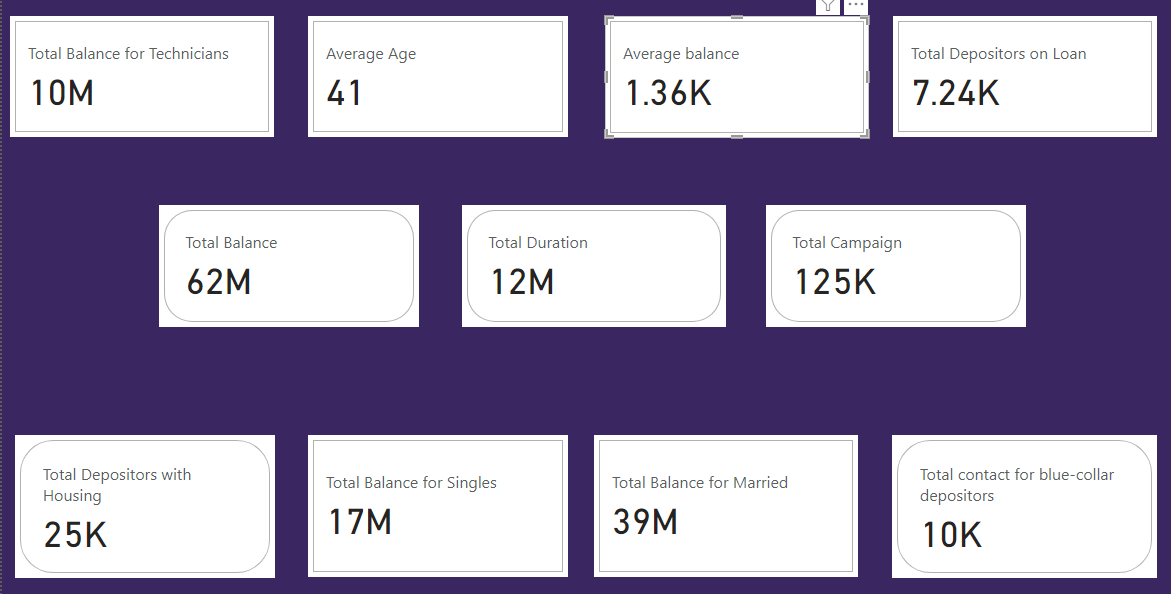

The page's visual inventory and layout, read from the dashboard file:
{"tool":"powerbi","page":{"name":"Measures","canvas":[1280,720],"ordinal":0},"visuals":[{"type":"cardVisual","fields":{"Data":["Measures Table.Average Age"]},"box":[37,37,260.7,121.5],"z":0},{"type":"cardVisual","fields":{"Data":["Measures Table.Count of loan average per loan"]},"box":[479.1,37,264.2,121.5],"z":1000},{"type":"cardVisual","fields":{"Data":["Measures Table.Total Balance for Singles"]},"box":[37,237.8,260.7,121.5],"z":2000},{"type":"cardVisual","fields":{"Data":["Measures Table.Total Balance for Married"]},"box":[929.8,37,264.1,121.9],"z":3000},{"type":"cardVisual","fields":{"Data":["Measures Table.Total Balance for Technician"]},"box":[478.8,238,264.2,121.8],"z":4000},{"type":"cardVisual","fields":{"Data":["Measures Table.Total Depositors on Loan"]},"box":[929.8,237.8,264.1,121.9],"z":5000},{"type":"cardVisual","fields":{"Data":["Measures Table.Total Depositors with Housing"]},"box":[37,443.9,260.7,121.5],"z":6000},{"type":"cardVisual","fields":{"Data":["Measures Table.Average Age Per Education Category"]},"box":[478.8,444.2,264.2,120.9],"z":7000},{"type":"cardVisual","fields":{"Data":["Measures Table.Count of contact for blue-collar"]},"box":[929.5,444.2,264.2,120.9],"z":8000}]}

Visuals, with their boxes on the page's 1280x720 design canvas (x1, y1, x2, y2). These are canvas units, not pixel positions in the 1171x594 screenshot, which may show the page scaled, cropped or inside an application window:
cardVisual - Measures Table.Average Age: region(37, 37, 298, 158)
cardVisual - Measures Table.Count of loan average per loan: region(479, 37, 743, 158)
cardVisual - Measures Table.Total Balance for Singles: region(37, 238, 298, 359)
cardVisual - Measures Table.Total Balance for Married: region(930, 37, 1194, 159)
cardVisual - Measures Table.Total Balance for Technician: region(479, 238, 743, 360)
cardVisual - Measures Table.Total Depositors on Loan: region(930, 238, 1194, 360)
cardVisual - Measures Table.Total Depositors with Housing: region(37, 444, 298, 565)
cardVisual - Measures Table.Average Age Per Education Category: region(479, 444, 743, 565)
cardVisual - Measures Table.Count of contact for blue-collar: region(930, 444, 1194, 565)
